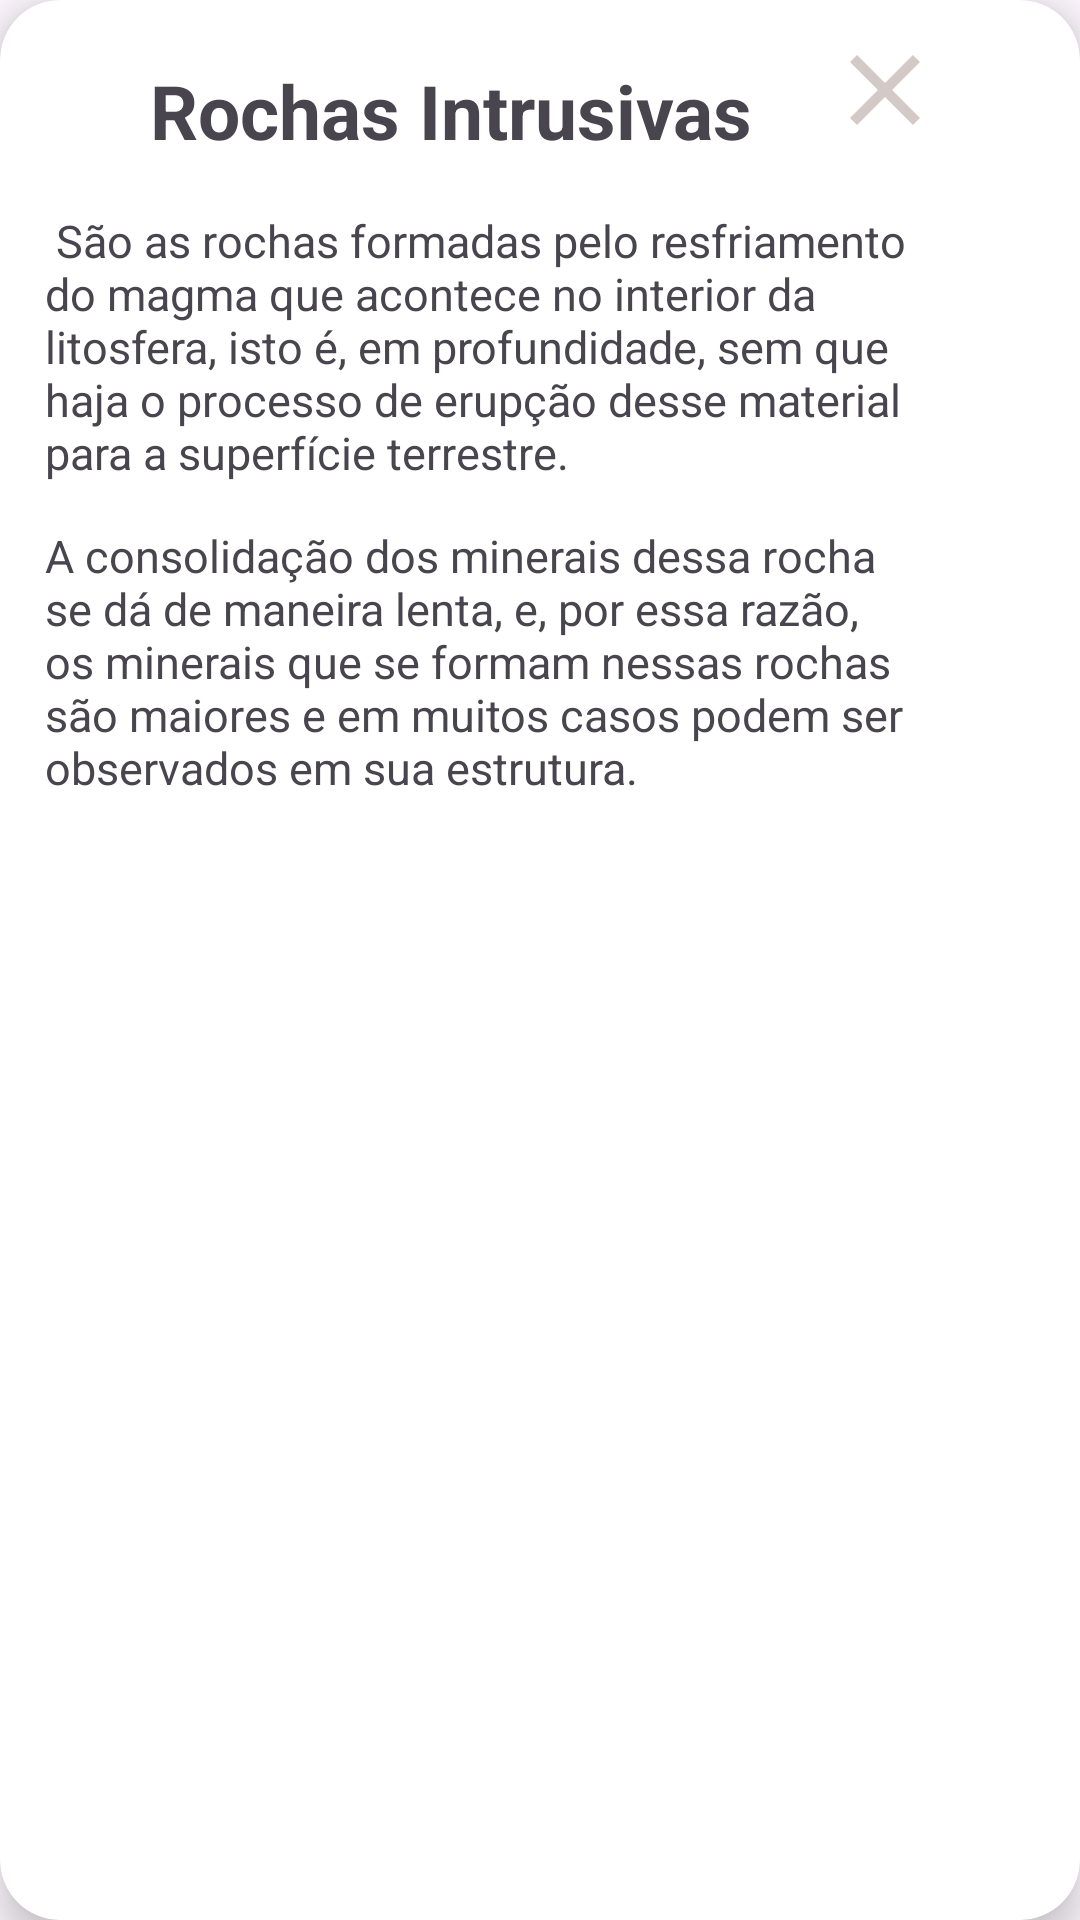

Icons on this 1080×1920 Android screen, each with its box as {"x1": x1, "y1": y1, "x2": x2, "y2": y2}:
fechar: {"x1": 850, "y1": 55, "x2": 920, "y2": 125}
